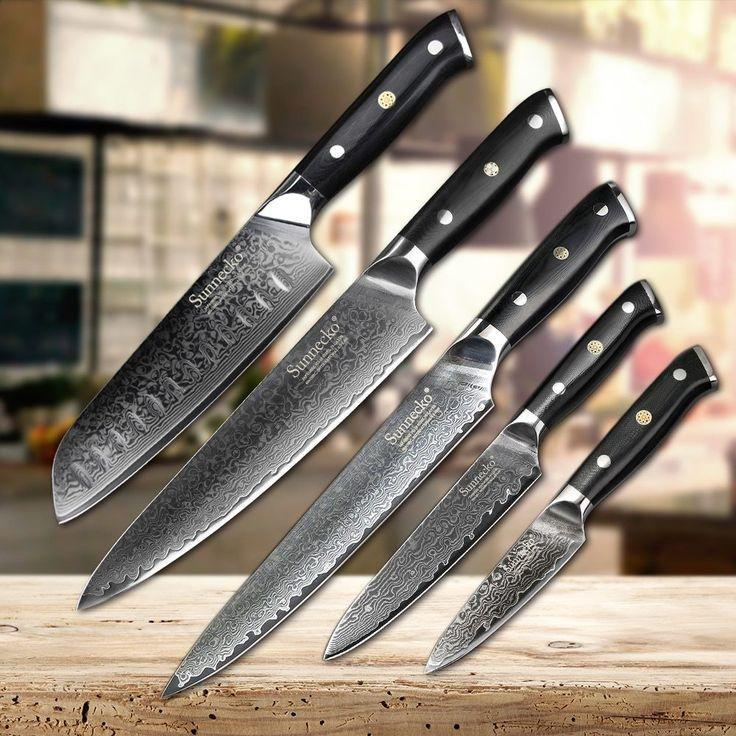faca: (79, 91, 566, 608), (165, 184, 636, 695), (52, 12, 470, 524), (325, 280, 662, 659), (426, 346, 717, 672)
